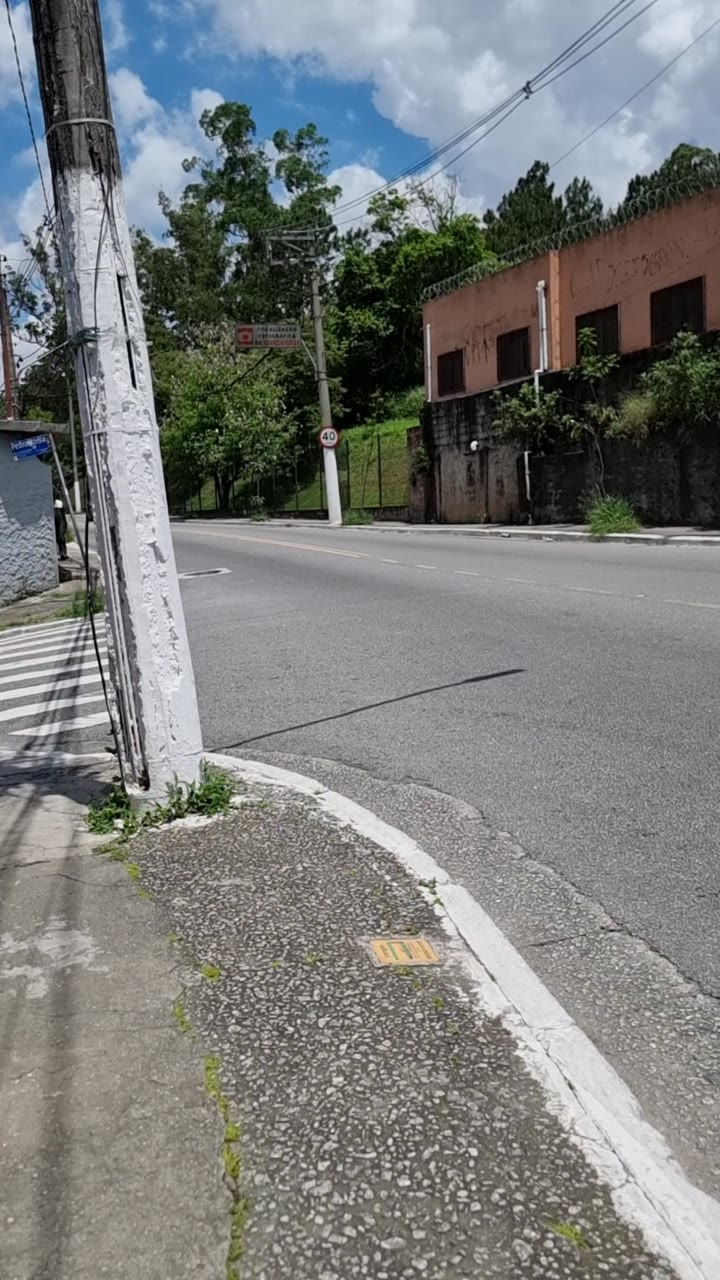obstaculo: (35, 1, 203, 798)
